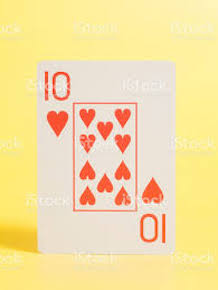TenOfHearts: (34, 55, 187, 257)
